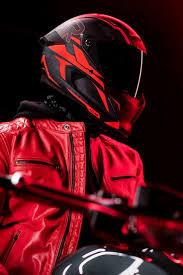Helmet: (40, 14, 147, 137)
